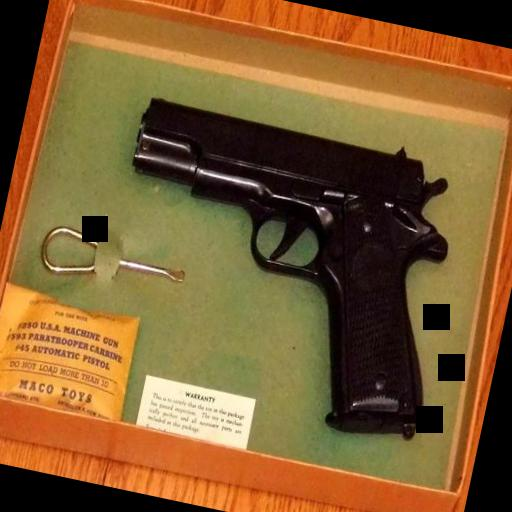Handgun: (78, 80, 478, 452)
